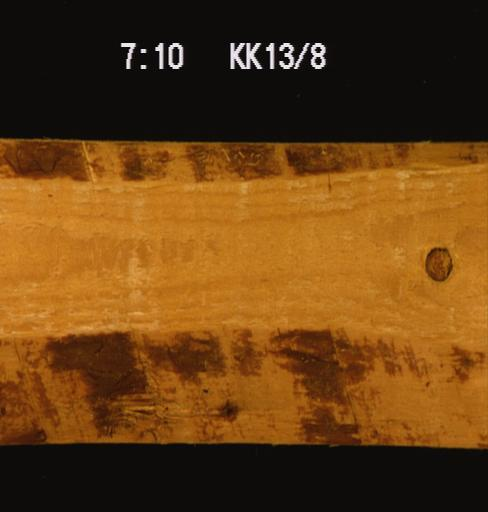dry_knot: (421, 244, 453, 281)
wave: (0, 327, 487, 442), (0, 141, 485, 183)
